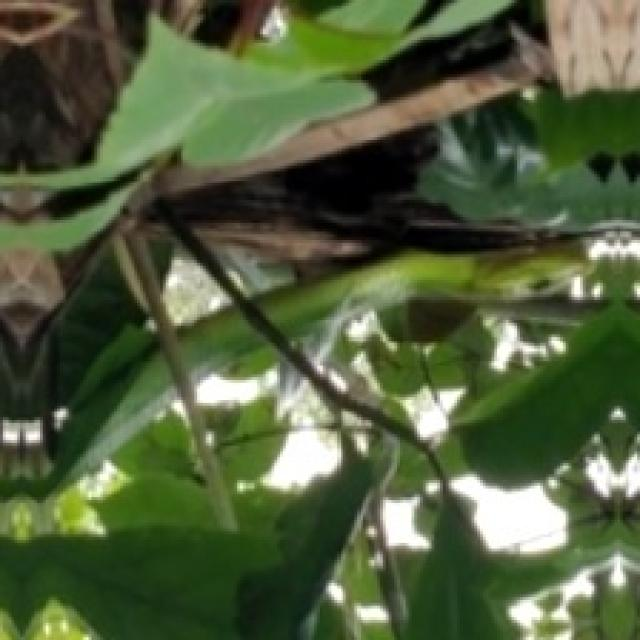red-tailed green ratsnake: (252, 246, 585, 339), (0, 328, 172, 498), (179, 306, 275, 376)
